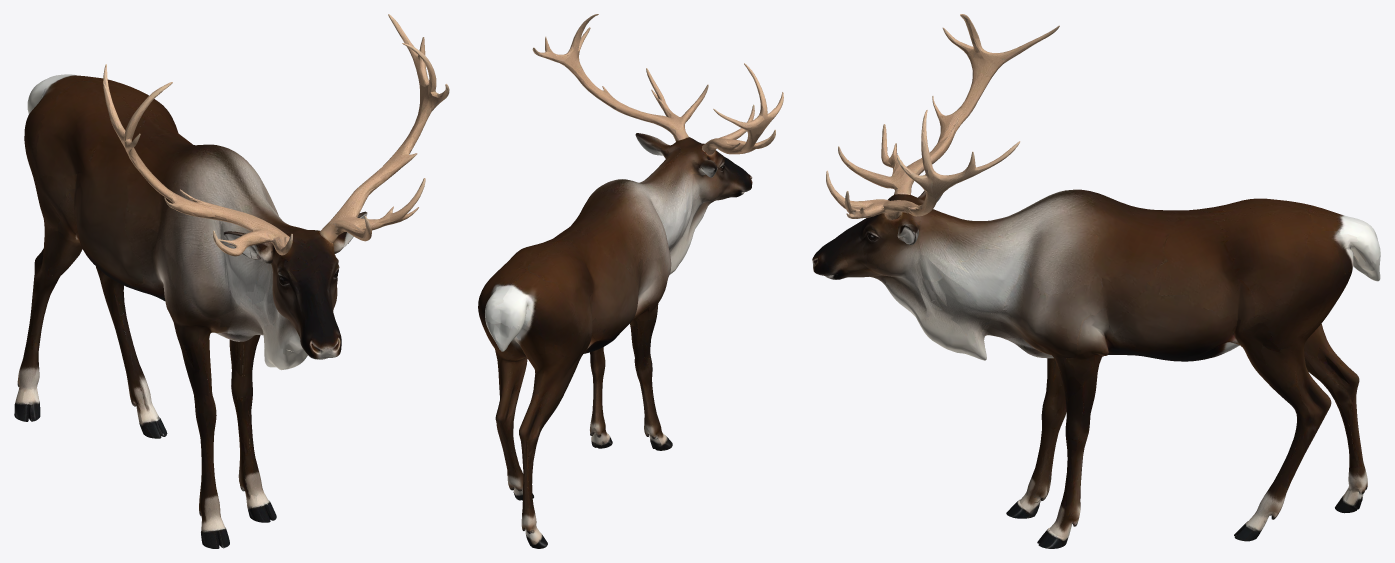
The model's file is woodland-caribou.glb.
3 views of the same model, side by side, from view 1: azimuth 30°, elevation 25°; view 2: azimuth 150°, elevation 25°; view 3: azimuth 270°, elevation 25° (orthographic). The views are drawn at different scales.
Size of the model in its own units: 1.09 by 1.73 by 1.9.
Materials: 1 (1 with a texture image).
